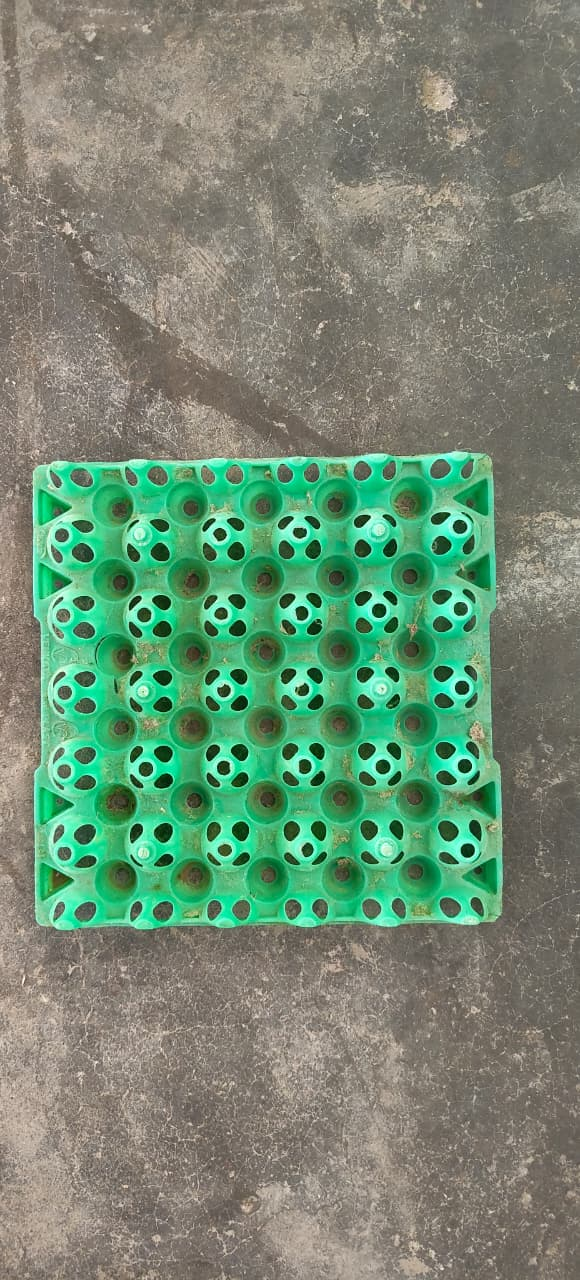egg_tray: (20, 466, 518, 938)
